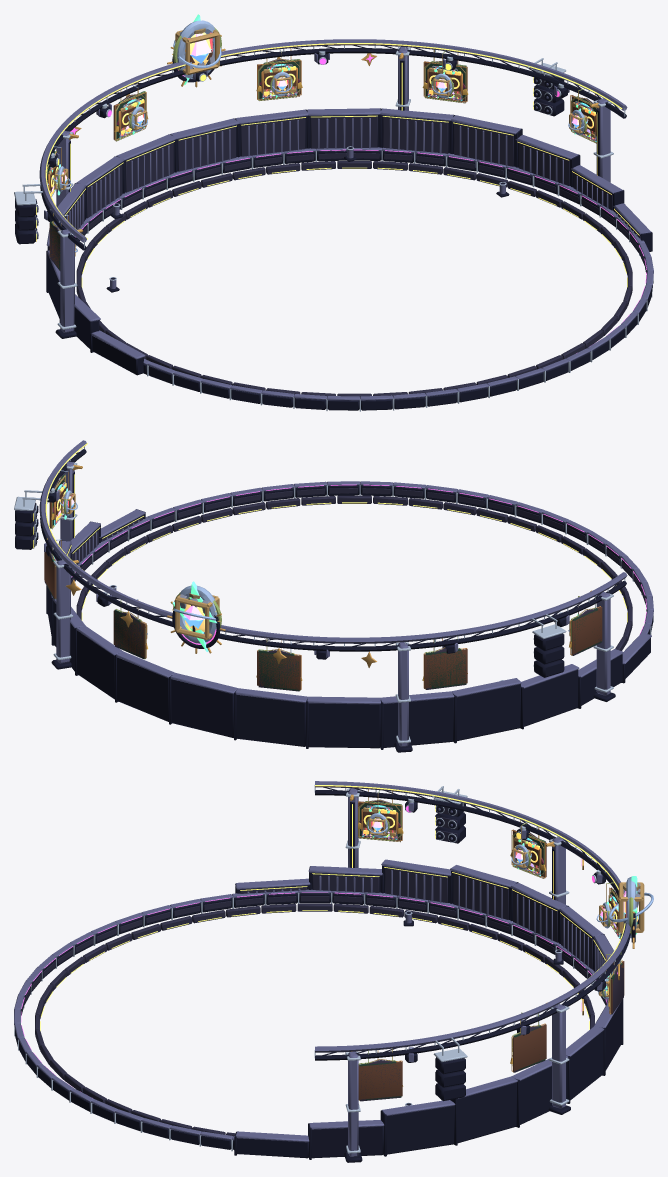
The model's file is venue.glb.
3 views of the same model, one above another, from view 1: azimuth 30°, elevation 25°; view 2: azimuth 150°, elevation 25°; view 3: azimuth 270°, elevation 25° (orthographic).
Parts seen in each view (by area): view 1: Venue_Static, Show_Mobile_techhouse_6, Show_Panel_boombap_2, Show_Mobile_house_6, Show_Panel_boombap_1; view 2: Venue_Static, Show_Panel_boombap_4, Show_Panel_boombap_3, Show_Panel_dnb_3, Show_Panel_boombap_5, Show_Panel_boombap_2, Show_Panel_dnb_4, Show_Panel_dnb_2, Show_Mobile_techhouse_6, Show_Mobile_house_6, Show_Panel_triphop_2, Venue_Emblem; view 3: Venue_Static, Show_Panel_boombap_0, Show_Panel_boombap_1, Show_Panel_boombap_5, Show_Mobile_techhouse_6.
Boxes of the visible parts, x1=… form: Venue_Static: x1=14, y1=39, x2=653, y2=411; Show_Mobile_techhouse_6: x1=175, y1=30, x2=219, y2=74; Show_Panel_boombap_2: x1=257, y1=48, x2=301, y2=99; Show_Mobile_house_6: x1=177, y1=20, x2=215, y2=78; Show_Panel_boombap_1: x1=423, y1=50, x2=467, y2=102; Venue_Static: x1=14, y1=440, x2=653, y2=752; Show_Panel_boombap_4: x1=423, y1=638, x2=467, y2=688; Show_Panel_boombap_3: x1=257, y1=640, x2=301, y2=690; Show_Panel_dnb_3: x1=258, y1=639, x2=300, y2=691; Show_Panel_boombap_5: x1=570, y1=604, x2=602, y2=654; Show_Panel_boombap_2: x1=113, y1=600, x2=146, y2=658; Show_Panel_dnb_4: x1=424, y1=636, x2=466, y2=688; Show_Panel_dnb_2: x1=114, y1=600, x2=145, y2=658; Show_Mobile_techhouse_6: x1=175, y1=594, x2=219, y2=639; Show_Mobile_house_6: x1=179, y1=585, x2=217, y2=643; Show_Panel_triphop_2: x1=115, y1=611, x2=145, y2=658; Venue_Emblem: x1=167, y1=598, x2=225, y2=653; Venue_Static: x1=14, y1=781, x2=638, y2=1162; Show_Panel_boombap_0: x1=358, y1=1050, x2=402, y2=1099; Show_Panel_boombap_1: x1=511, y1=1020, x2=546, y2=1071; Show_Panel_boombap_5: x1=358, y1=792, x2=402, y2=840; Show_Mobile_techhouse_6: x1=618, y1=882, x2=644, y2=932.
Size of the model in its own units: 41.29 by 10.93 by 40.97.
